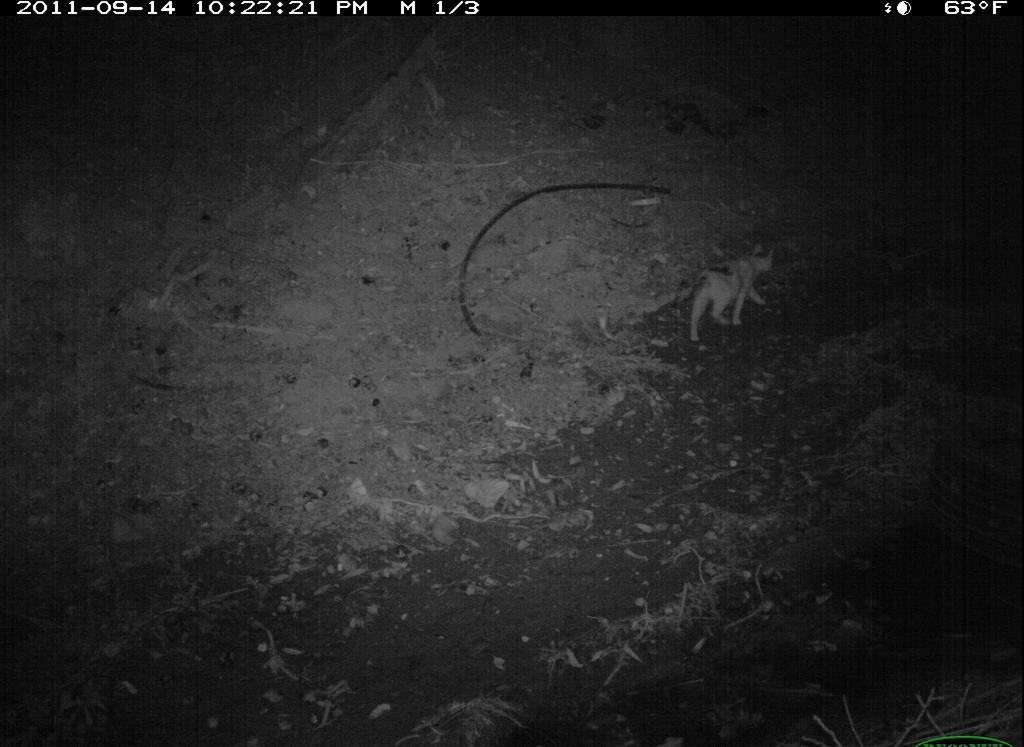cat: (678, 235, 781, 347)
